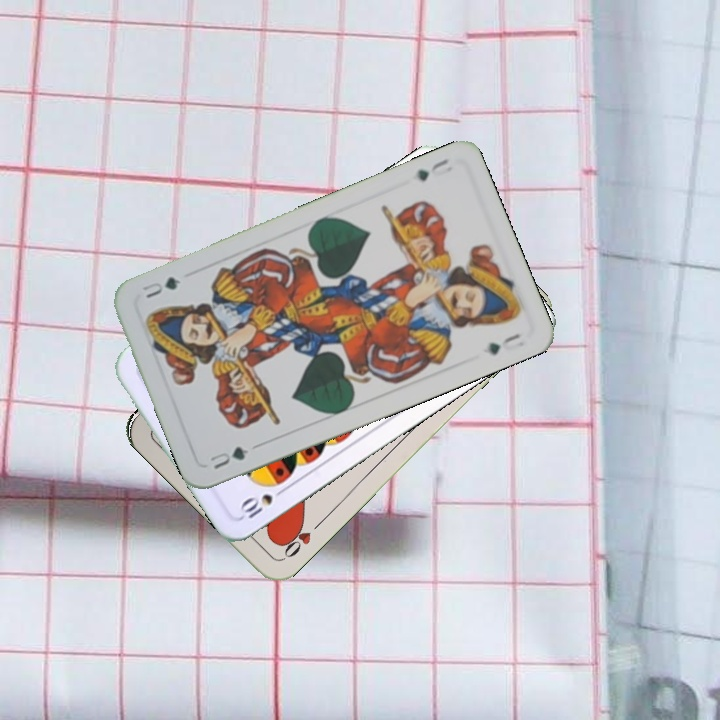GU: (206, 442, 252, 472), (412, 154, 455, 184)
HO: (275, 516, 326, 562)
S10: (234, 483, 290, 522)
